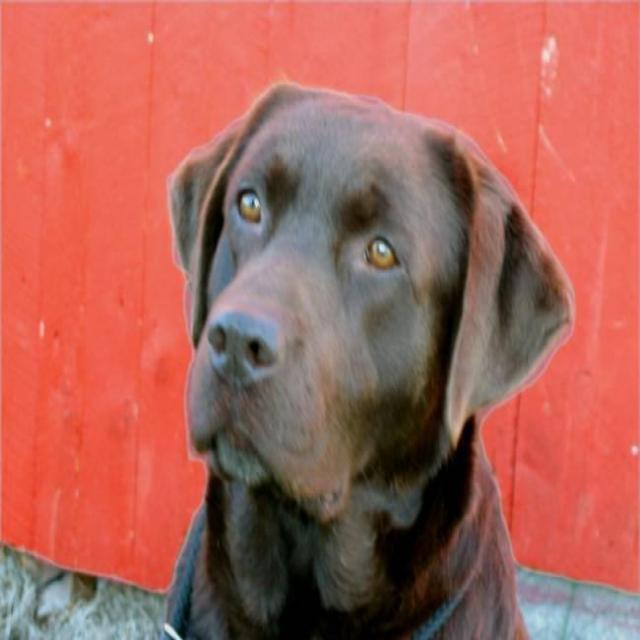relax: (154, 41, 594, 519)
